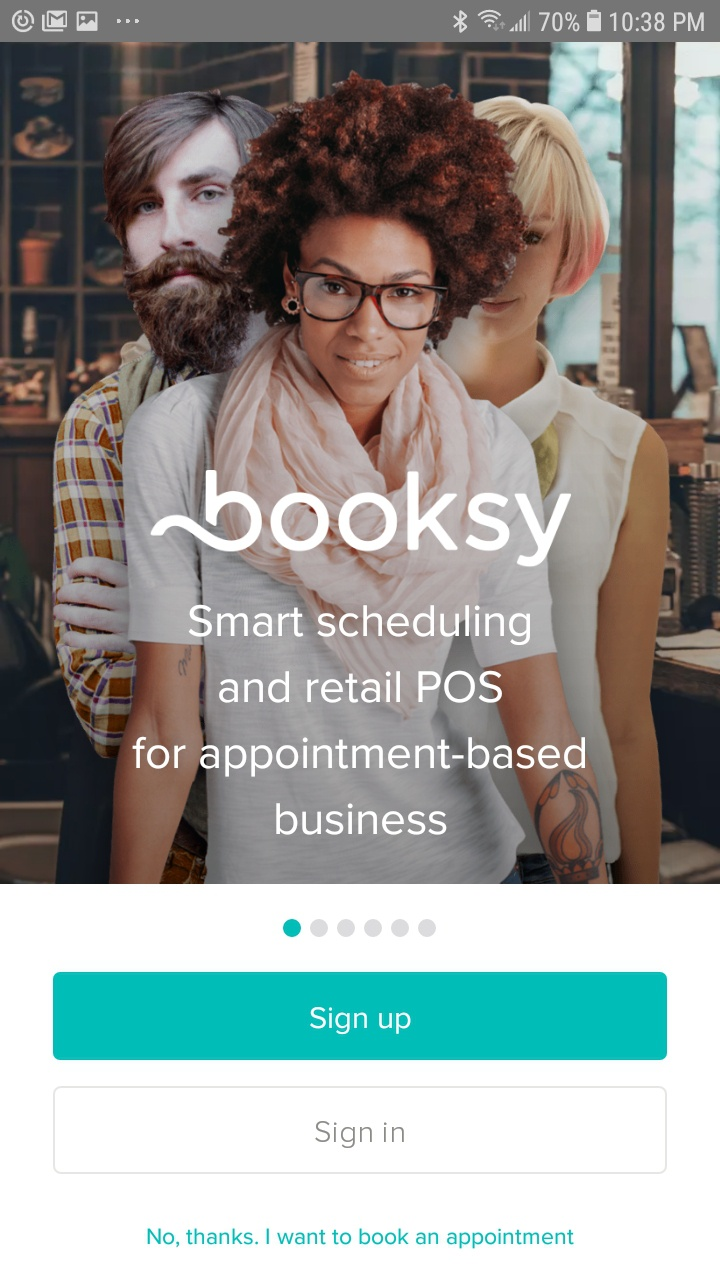Image: (1, 43, 720, 885), (150, 469, 572, 568)
PageIndicator: (283, 918, 437, 938)
Text: (133, 604, 586, 836), (147, 1228, 574, 1249)
TextButton: (54, 972, 668, 1061), (53, 1086, 667, 1175)
UpperTaskBar: (1, 1, 720, 43)
